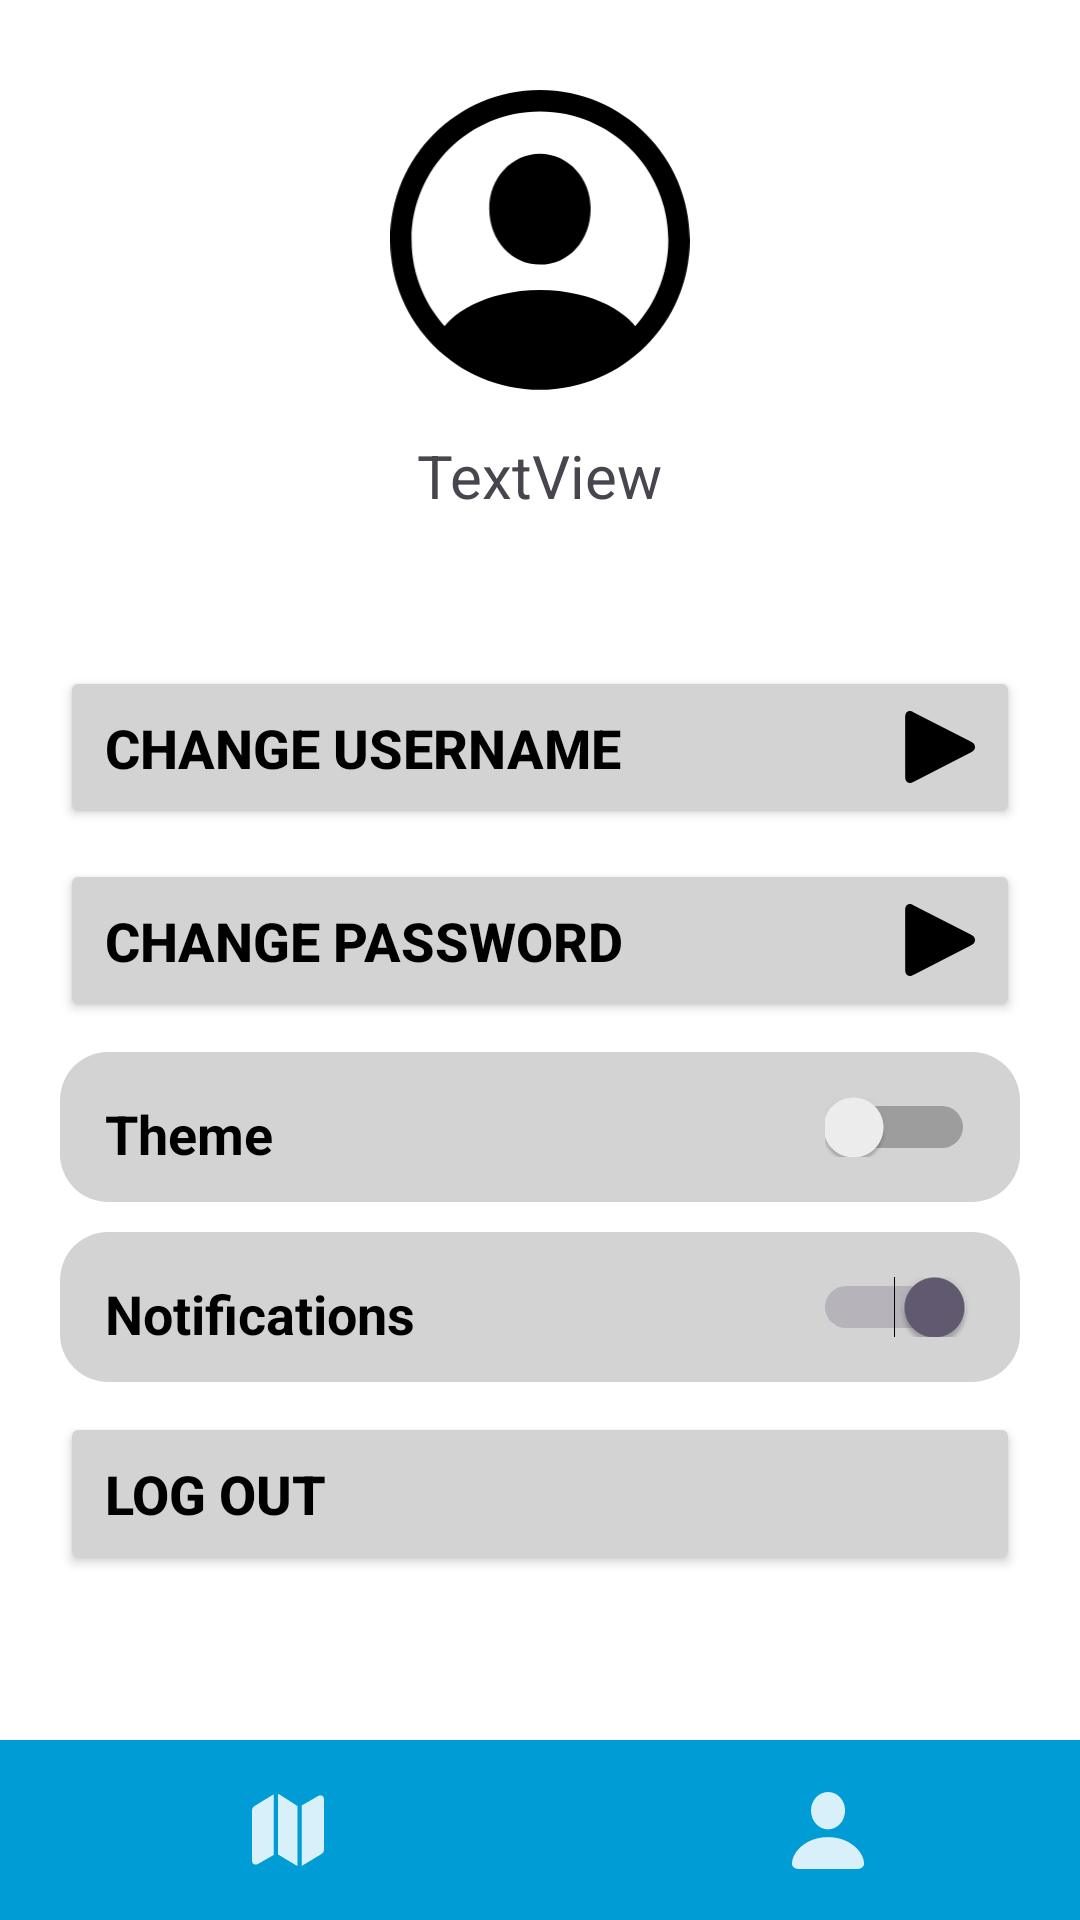

Icons on this 1080×1920 Android screen, each with the point to tap as (x=x, y=y):
Profile: (x=828, y=1830)
Profile Picture: (x=540, y=240)
